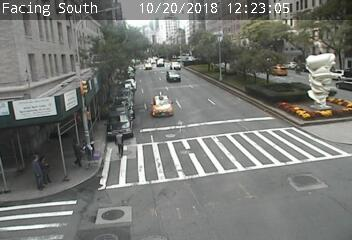car: (151, 92, 173, 116), (166, 70, 181, 82), (170, 62, 181, 70), (144, 63, 152, 70), (156, 60, 164, 66)
